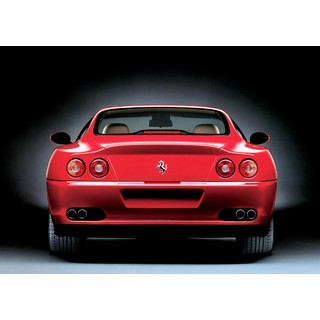car: (45, 102, 283, 259)
